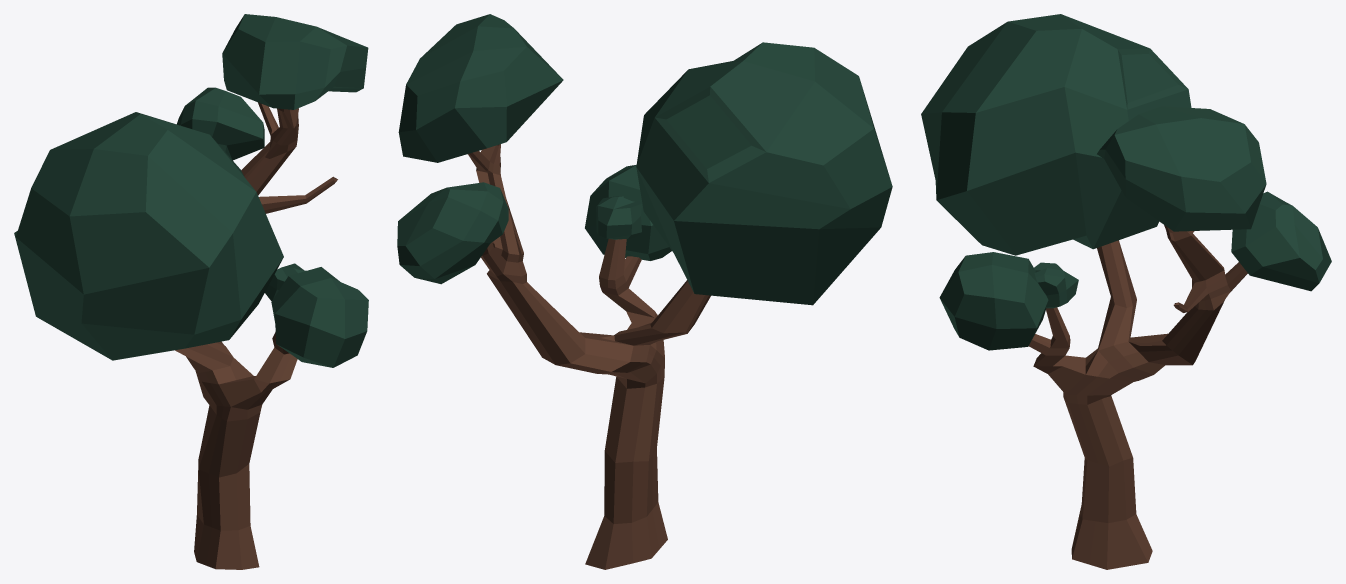
Rendered from tree 2.fbx.
3 renders of one model, left to right at view 1: azimuth 30°, elevation 25°; view 2: azimuth 150°, elevation 25°; view 3: azimuth 270°, elevation 25°, orthographic. The views are drawn at different scales.
Visible parts, largest first — view 1: Cube; view 2: Cube; view 3: Cube.
Part boxes in pixels (box(x1,y1,x2,y2)): Cube: box(14, 14, 368, 569); Cube: box(397, 14, 892, 569); Cube: box(921, 14, 1331, 569).
Bounding box in the file's own units: 305 × 379 × 288.
